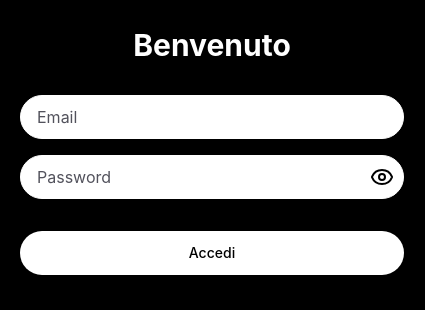
Test case: routing and session › AC5 - login to Home › wrong credentials stay on Login
Type "abbonato@learnn.com" into the field labelled "Email" at {"x": 212, "y": 117}, box [20,95,404,139]
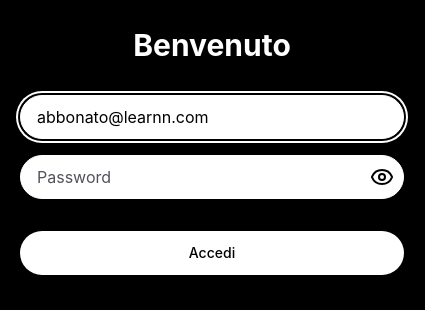
Type "wrong" into the password field labelled "Password" at {"x": 212, "y": 177}, box [20,155,404,199]
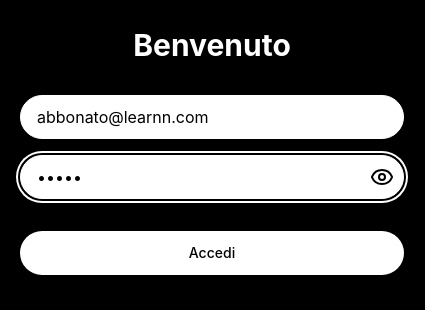
Click the button "Accedi" at {"x": 212, "y": 253}, box [20,231,404,275]
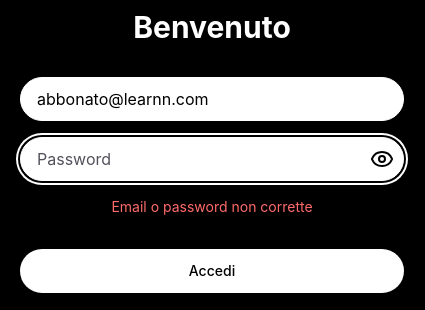
Now the message reads "Email o password non corrette", box [111,198,313,215]
